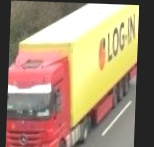truck: (5, 0, 139, 147)
